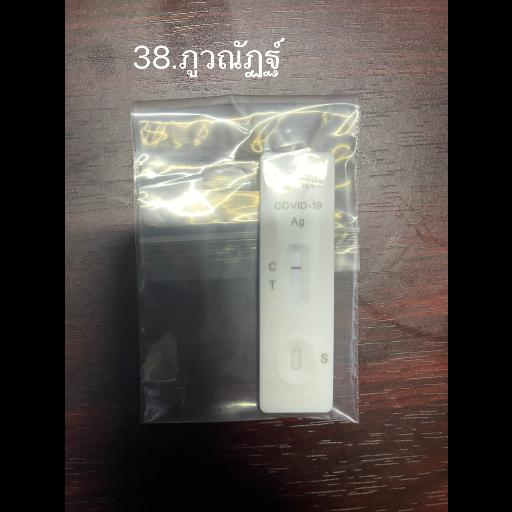Neg: (260, 155, 332, 411)
